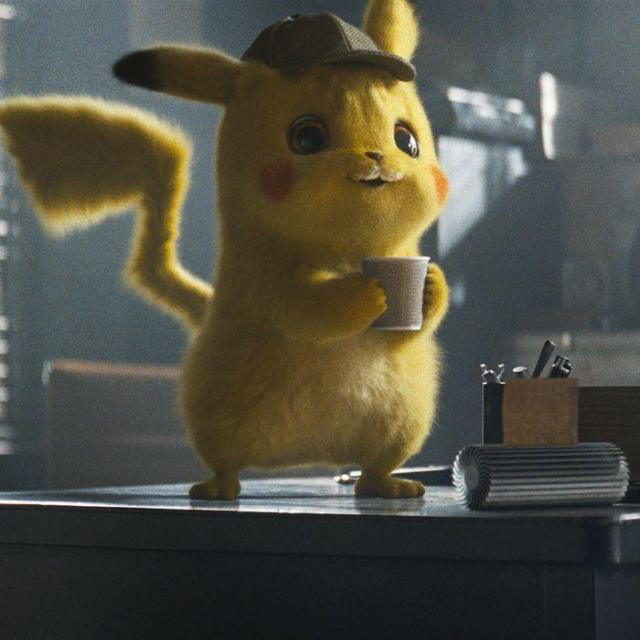pikachu: (1, 0, 448, 501)
